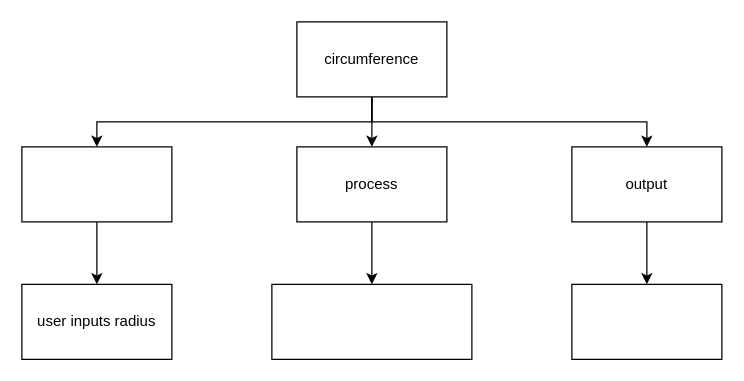
The diagram is 744 pixels wide and 381 high, and some of its shapes have lost their labels. The centre of each missing label's shape, as x and y in pixels:
"input" goes at point 96,184.
"outputs circumference" goes at point 646,321.
